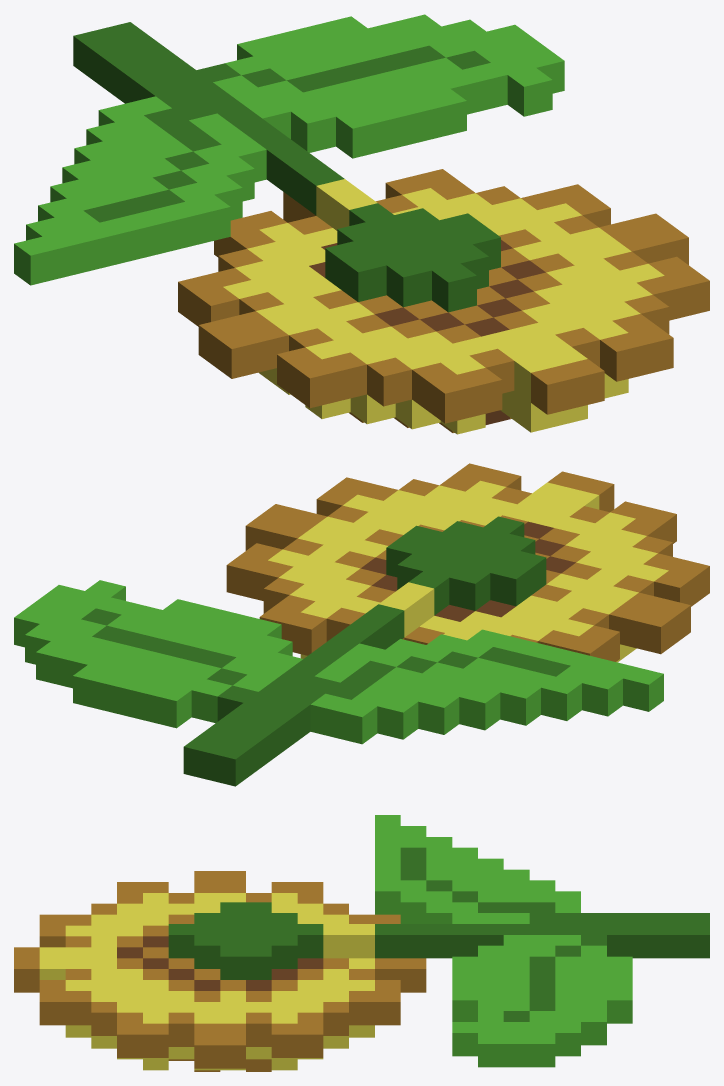
3 views of the same model, one above another, from view 1: azimuth 30°, elevation 25°; view 2: azimuth 150°, elevation 25°; view 3: azimuth 270°, elevation 25° (orthographic). The views are drawn at different scales.
Parts seen in each view (by area): view 1: shadeSun, shadeLeaf, shadeDarkgreen.001, shadeYellow2; view 2: shadeSun, shadeLeaf, shadeDarkgreen.001; view 3: shadeSun, shadeLeaf, shadeDarkgreen.001, shadeYellow2, shadeLightbrown.
Boxes of the visible parts, x1,y1,x2,y2 form: shadeSun: [178, 169, 709, 423]; shadeLeaf: [14, 14, 564, 285]; shadeDarkgreen.001: [73, 22, 500, 312]; shadeYellow2: [259, 368, 628, 434]; shadeSun: [226, 463, 709, 661]; shadeLeaf: [14, 580, 663, 744]; shadeDarkgreen.001: [81, 516, 570, 786]; shadeSun: [14, 871, 426, 1068]; shadeLeaf: [375, 815, 632, 1067]; shadeDarkgreen.001: [168, 847, 709, 1021]; shadeYellow2: [65, 1025, 374, 1070]; shadeLightbrown: [168, 1059, 271, 1071].
Bounding box in the file's own units: 5.53 × 1.05 × 7.11.
1 material, 1 textured.
